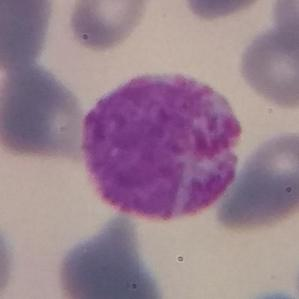Basophil: (79, 69, 243, 223)
RBC: (213, 126, 299, 232), (0, 62, 87, 161), (55, 227, 172, 299), (235, 20, 299, 109), (66, 0, 150, 52), (0, 0, 56, 71), (269, 0, 299, 70), (178, 0, 270, 21), (0, 213, 17, 298), (236, 288, 298, 299)
